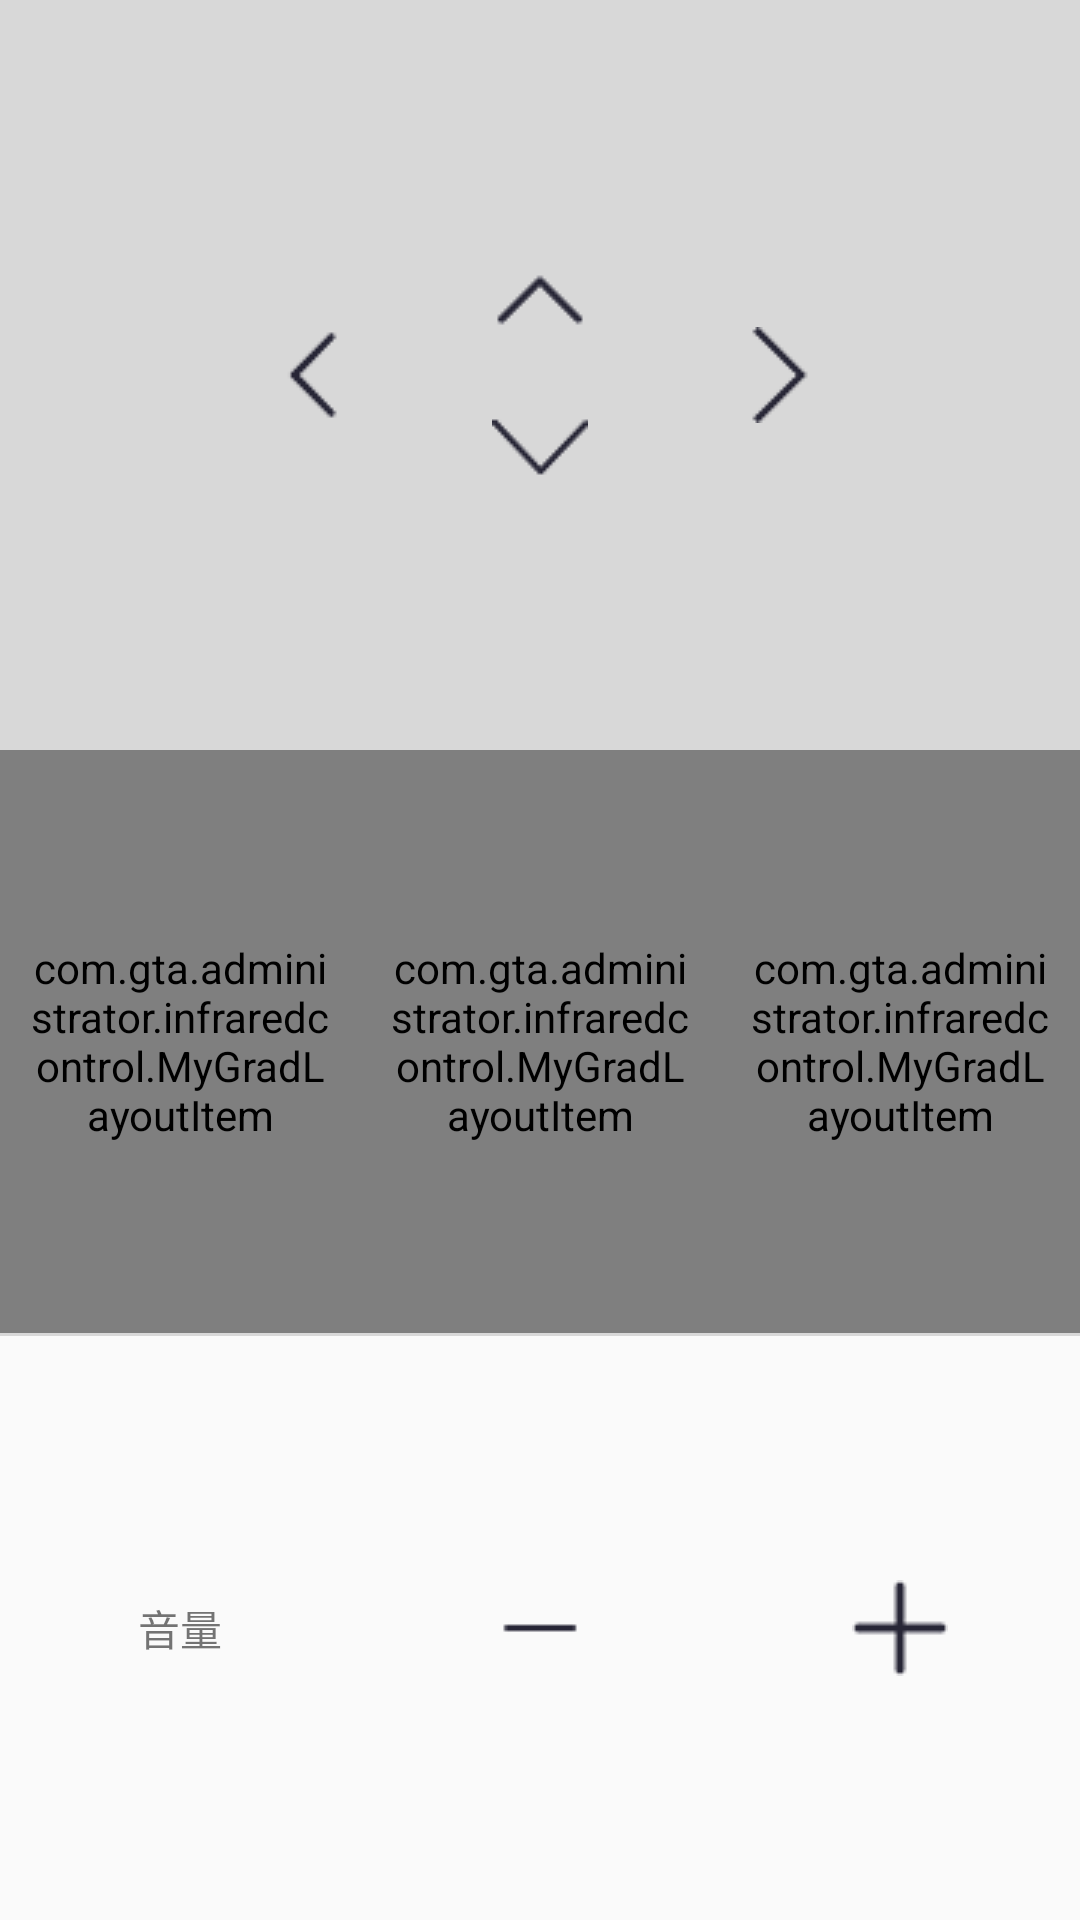

Where to tap for icons on this 1080*1920 app screen, as [x,y]:
down: [540,447]
left: [313,375]
plus: [900,1628]
right: [779,375]
